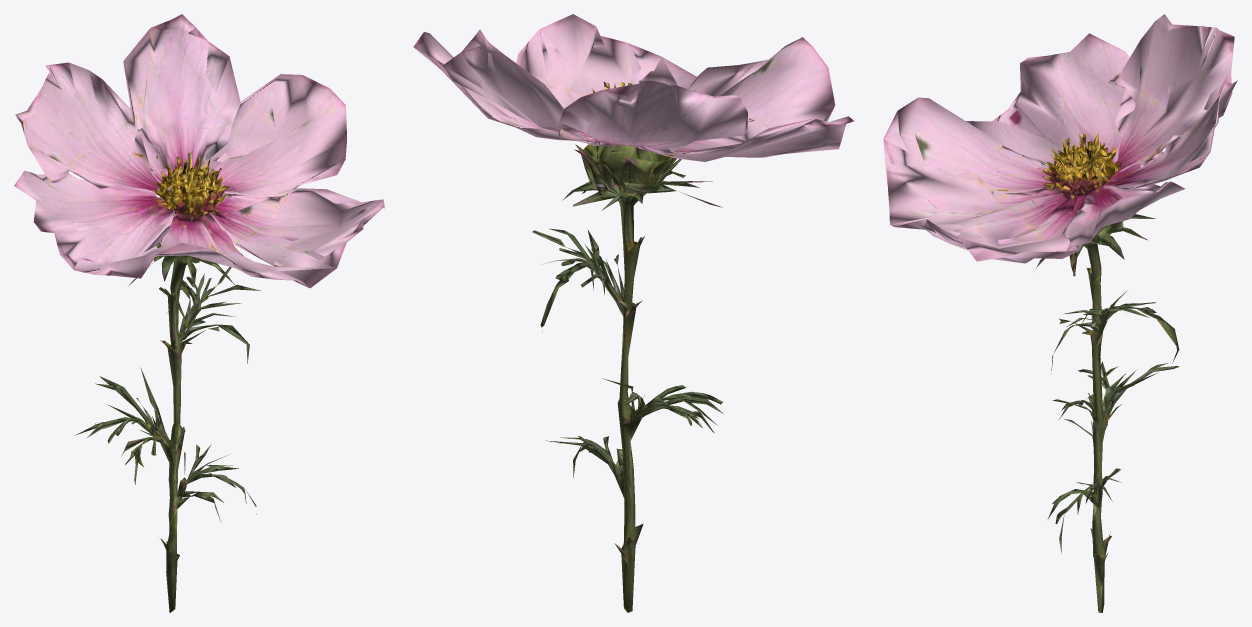
The model's file is giant-flower.glb.
3 renders of one model, left to right at view 1: azimuth 30°, elevation 25°; view 2: azimuth 150°, elevation 25°; view 3: azimuth 270°, elevation 25°, orthographic. The views are drawn at different scales.
Size of the model in its own units: 1.25 by 1.9 by 1.08.
1 material, 1 textured.
